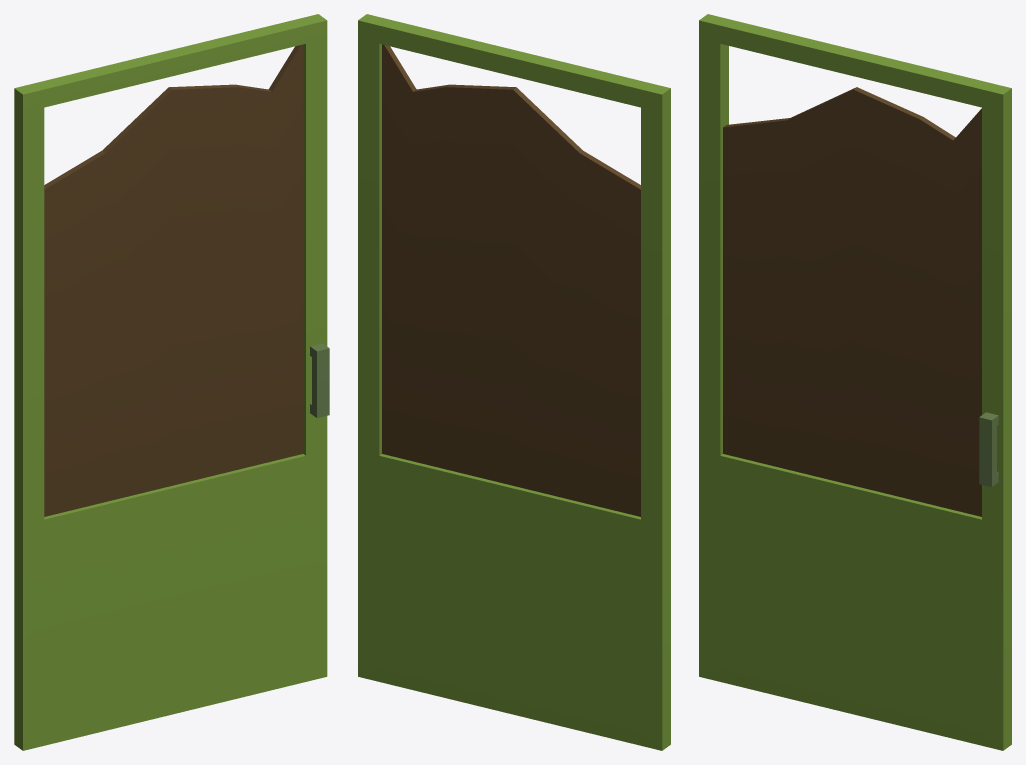
File: OldHouse_12_Door01.fbx
The picture shows the model from 3 angles, left to right: view 1: azimuth 30°, elevation 25°; view 2: azimuth 150°, elevation 25°; view 3: azimuth 330°, elevation 25°; orthographic projection.
Parts seen in each view (by area): view 1: OldHouse_12_Door01; view 2: OldHouse_12_Door01; view 3: OldHouse_12_Door01.
Boxes of the visible parts, x1,y1,x2,y2 form: OldHouse_12_Door01: (14,14,329,750); OldHouse_12_Door01: (358,14,670,750); OldHouse_12_Door01: (699,14,1011,750).
Size of the model in its own units: 1 by 2.06 by 0.0891.
